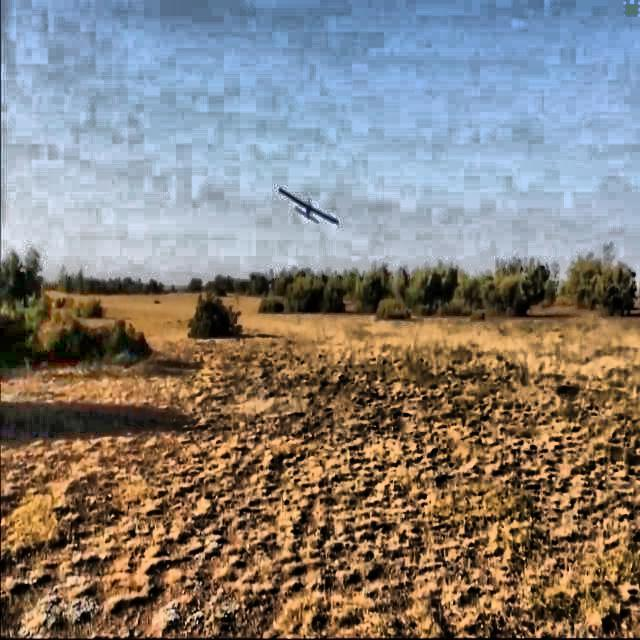iha: (306, 170, 312, 225)
